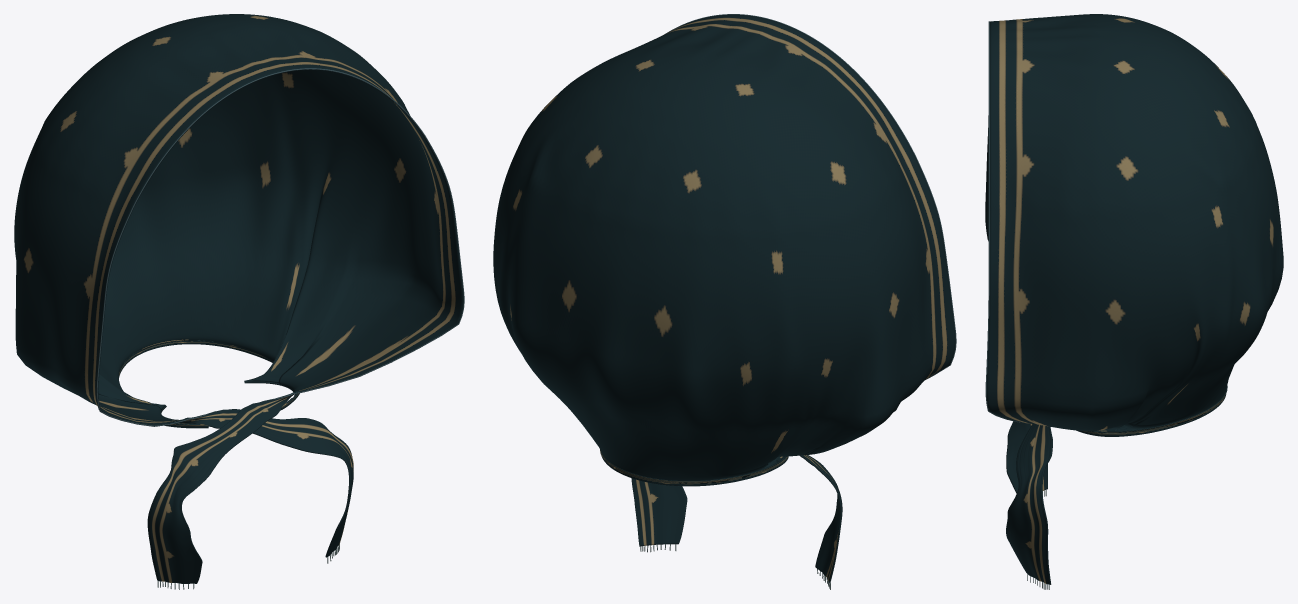
The model's file is Feminine-tank-gathered-pashmina248-headgear.glb.
3 views of the same model, side by side, from view 1: azimuth 30°, elevation 25°; view 2: azimuth 150°, elevation 25°; view 3: azimuth 270°, elevation 25° (orthographic). The views are drawn at different scales.
Parts seen in each view (by area): view 1: 226 headgear / Headwear / continuous woven pashmina239, 226 headgear / Headwear / face edge239; view 2: 226 headgear / Headwear / continuous woven pashmina239, 226 headgear / Headwear / face edge239; view 3: 226 headgear / Headwear / continuous woven pashmina239, 226 headgear / Headwear / face edge239.
Part boxes in pixels (x1,y1,x2,y2): 226 headgear / Headwear / continuous woven pashmina239: (14,14,463,583); 226 headgear / Headwear / face edge239: (96,68,464,426); 226 headgear / Headwear / continuous woven pashmina239: (493,14,955,583); 226 headgear / Headwear / face edge239: (664,14,956,379); 226 headgear / Headwear / continuous woven pashmina239: (985,14,1283,584); 226 headgear / Headwear / face edge239: (985,21,1028,423).
Bounding box in the file's own units: 1.02 × 1.35 × 0.7112.
Materials: 3 (1 with a texture image).
